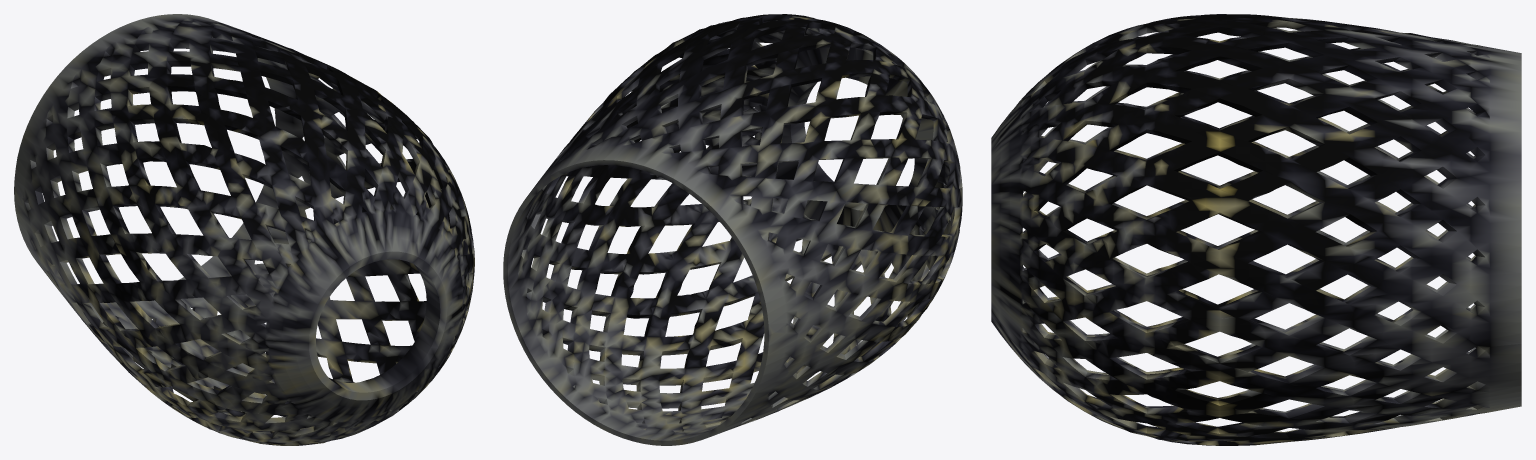
The model's file is lamp_shade_14_final300.obj.
3 renders of one model, left to right at view 1: azimuth 30°, elevation 25°; view 2: azimuth 150°, elevation 25°; view 3: azimuth 270°, elevation 25°, orthographic. The views are drawn at different scales.
Bounding box in the file's own units: 1.21 × 1.21 × 1.49.
